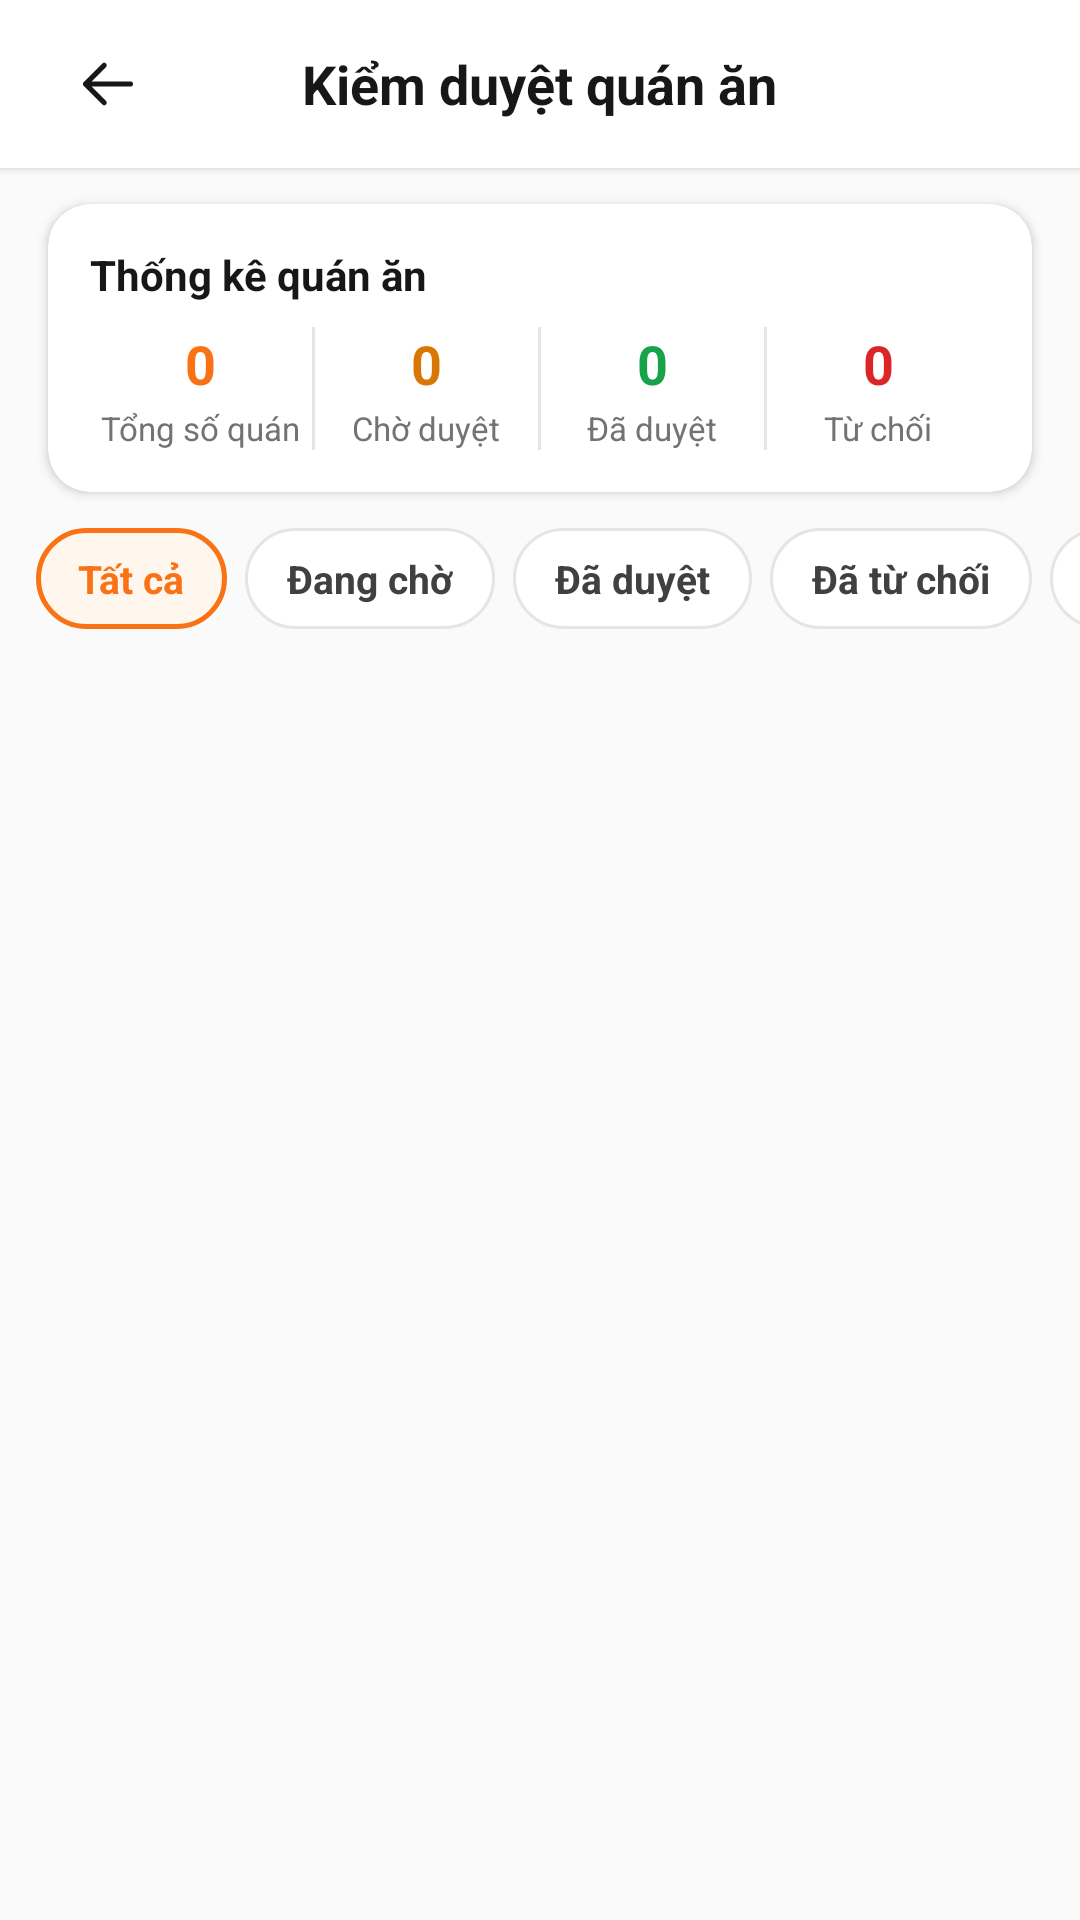

Screen size 1080 × 1920. Icon name, then its center in pixels as point (x, y):
arrow left: point (108, 84)
